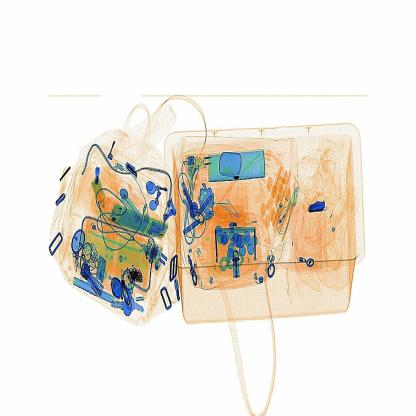knife: (306, 200, 332, 223)
